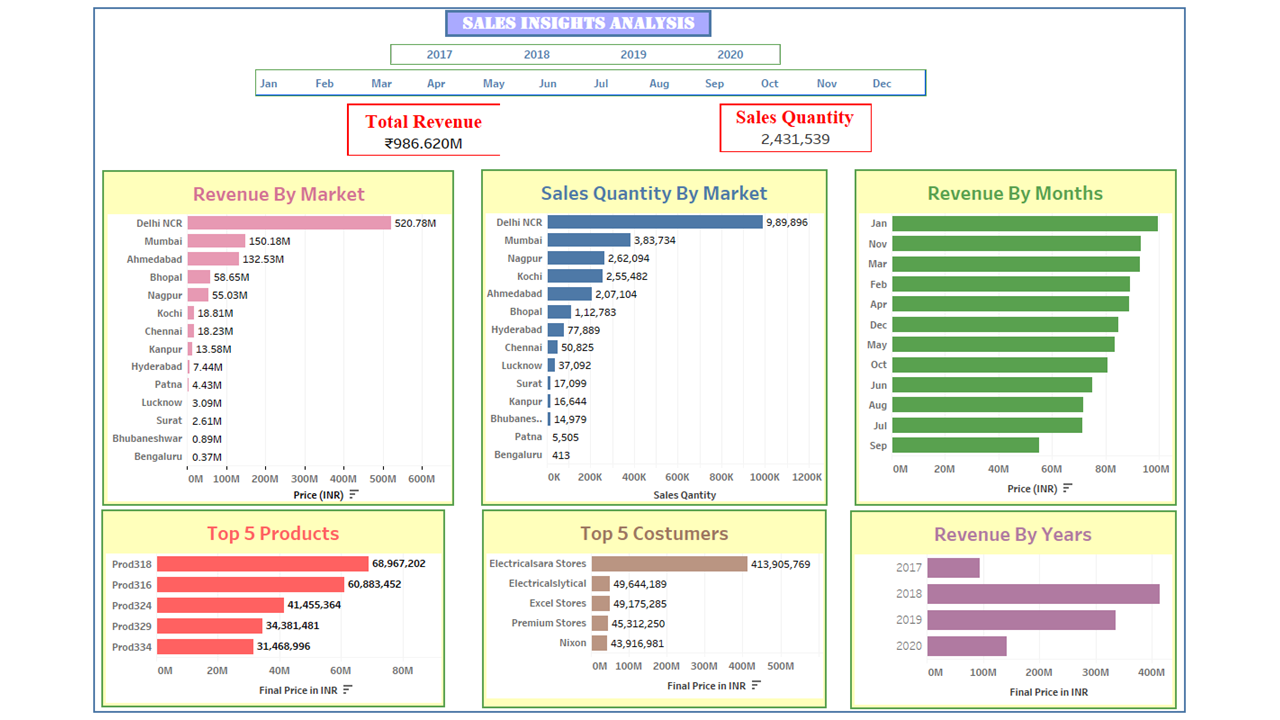

Layout of this report page (visuals, bound fields, positions):
{"tool":"tableau","page":{"name":"Sales  - Revenue","canvas":[1230,800],"ordinal":1},"visuals":[{"type":"image","box":[10,10,1210,780]},{"type":"text","box":[398.7,11,296.2,30]},{"type":"worksheet","title":"Year","mark":"Automatic","cols":["cy_date"],"box":[338,46,434,28]},{"type":"worksheet","title":"Month","mark":"Automatic","cols":["cy_date"],"box":[186.6,76,748.2,32]},{"type":"worksheet","title":"Total Cost","mark":"Automatic","box":[503,114,162,58]},{"type":"worksheet","title":"Revenue","mark":"Automatic","box":[290,115,176,58]},{"type":"worksheet","title":"Sales Quantity","mark":"Automatic","box":[704.2,115,169.1,54]},{"type":"worksheet","title":"Sales Quantity By Market","mark":"Automatic","rows":["markets_name"],"cols":["sales_qty"],"box":[438.7,188,385.3,374]},{"type":"worksheet","title":"Revenue By Months","mark":"Bar","rows":["cy_date"],"cols":["Calculation_613896927939850240"],"box":[854.5,188,357,374]},{"type":"worksheet","title":"Revenue By Market","mark":"Automatic","rows":["markets_name"],"cols":["Calculation_613896927939850240"],"box":[18.5,189,390.8,373]},{"type":"worksheet","title":"Top 5 Products","mark":"Automatic","rows":["product_code"],"cols":["Calculation_613896927939850240"],"box":[17.4,566,382.1,220]},{"type":"worksheet","title":"Top 5 Costumers","mark":"Automatic","rows":["custmer_name"],"cols":["Calculation_613896927939850240"],"box":[439.7,566,383.1,221]},{"type":"worksheet","title":"Revenue By Years","mark":"Bar","rows":["cy_date"],"cols":["Calculation_613896927939850240"],"box":[849,567,362.5,221]}]}

Visuals, with their boxes on the page's 1230x800 design canvas (x1, y1, x2, y2). These are canvas units, not pixel positions in the 1280x720 screenshot, which may show the page scaled, cropped or inside an application window:
image: left=10, top=10, right=1220, bottom=790
text: left=399, top=11, right=695, bottom=41
"Year" worksheet: left=338, top=46, right=772, bottom=74
"Month" worksheet: left=187, top=76, right=935, bottom=108
"Total Cost" worksheet: left=503, top=114, right=665, bottom=172
"Revenue" worksheet: left=290, top=115, right=466, bottom=173
"Sales Quantity" worksheet: left=704, top=115, right=873, bottom=169
"Sales Quantity By Market" worksheet: left=439, top=188, right=824, bottom=562
"Revenue By Months" worksheet (Bar marks): left=854, top=188, right=1212, bottom=562
"Revenue By Market" worksheet: left=18, top=189, right=409, bottom=562
"Top 5 Products" worksheet: left=17, top=566, right=400, bottom=786
"Top 5 Costumers" worksheet: left=440, top=566, right=823, bottom=787
"Revenue By Years" worksheet (Bar marks): left=849, top=567, right=1212, bottom=788
